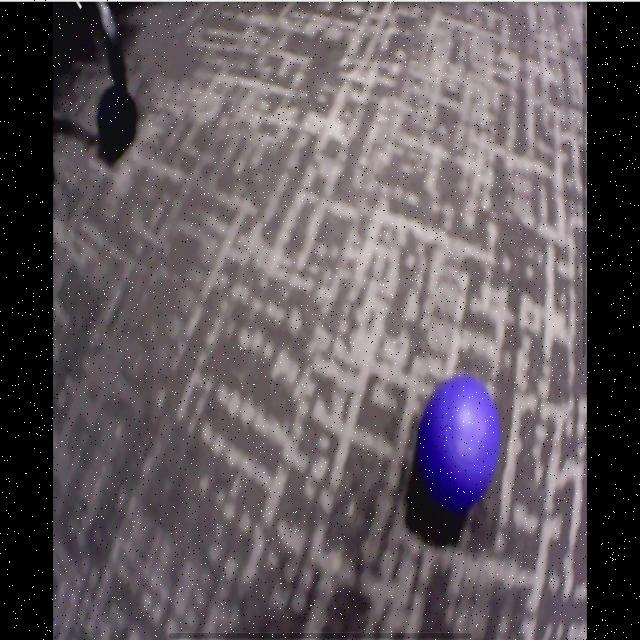ball: (420, 377, 501, 504)
